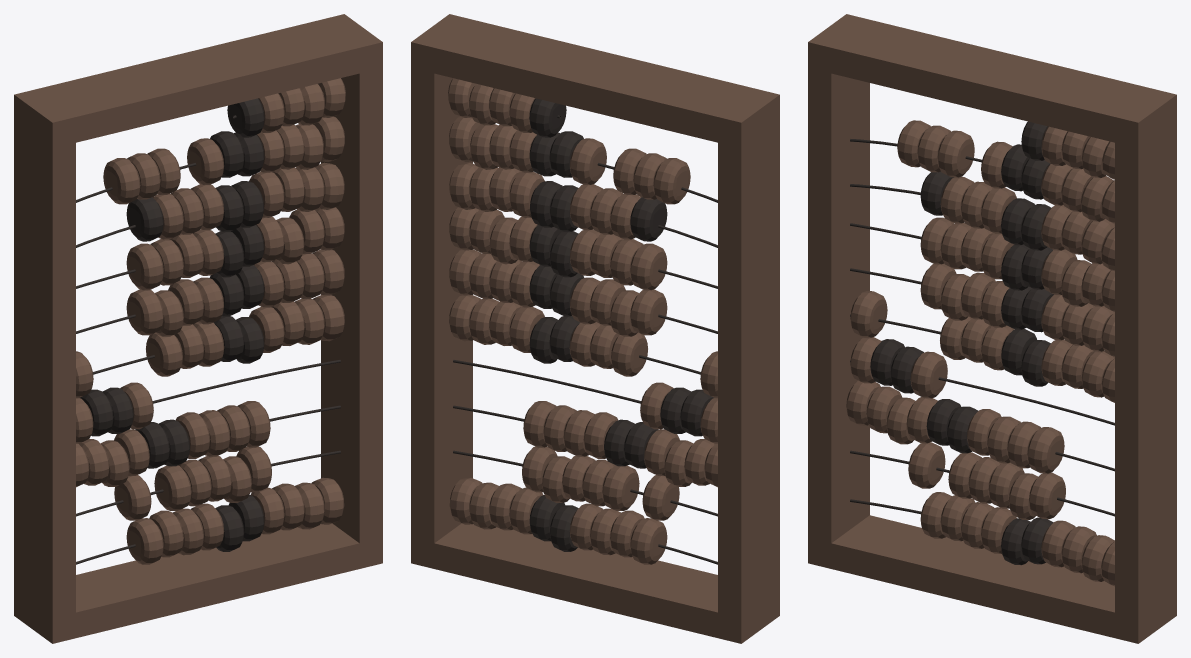
File: 1scheti.glb
3 views of the same model, side by side, from view 1: azimuth 30°, elevation 25°; view 2: azimuth 150°, elevation 25°; view 3: azimuth 330°, elevation 25° (orthographic).
Parts seen in each view (by area): view 1: Плоскость.002; view 2: Плоскость.002; view 3: Плоскость.002.
Boxes of the visible parts, x1,y1,x2,y2 form: Плоскость.002: (14, 14, 382, 643); Плоскость.002: (411, 14, 779, 643); Плоскость.002: (808, 14, 1176, 643).
Size of the model in its own units: 2.48 by 3.74 by 0.5.
